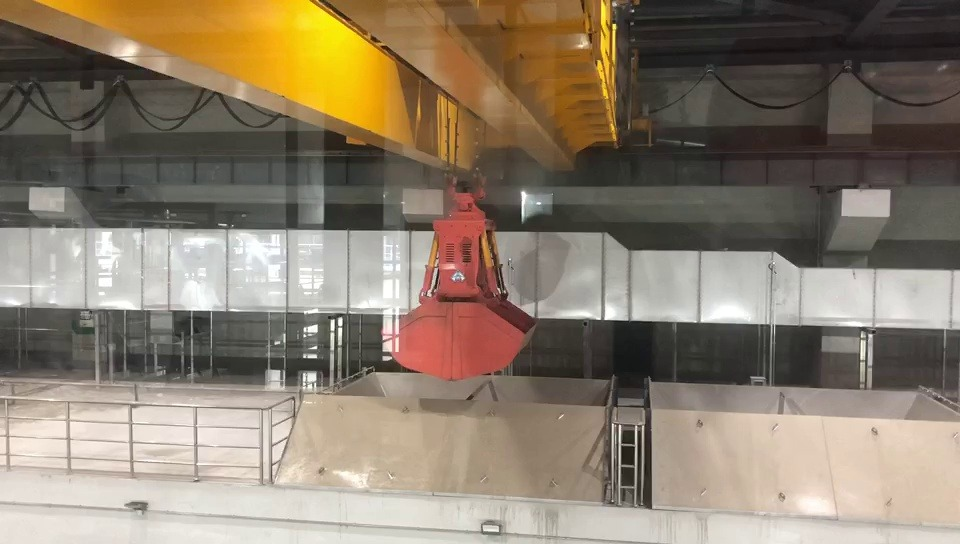grab: (375, 183, 539, 381)
